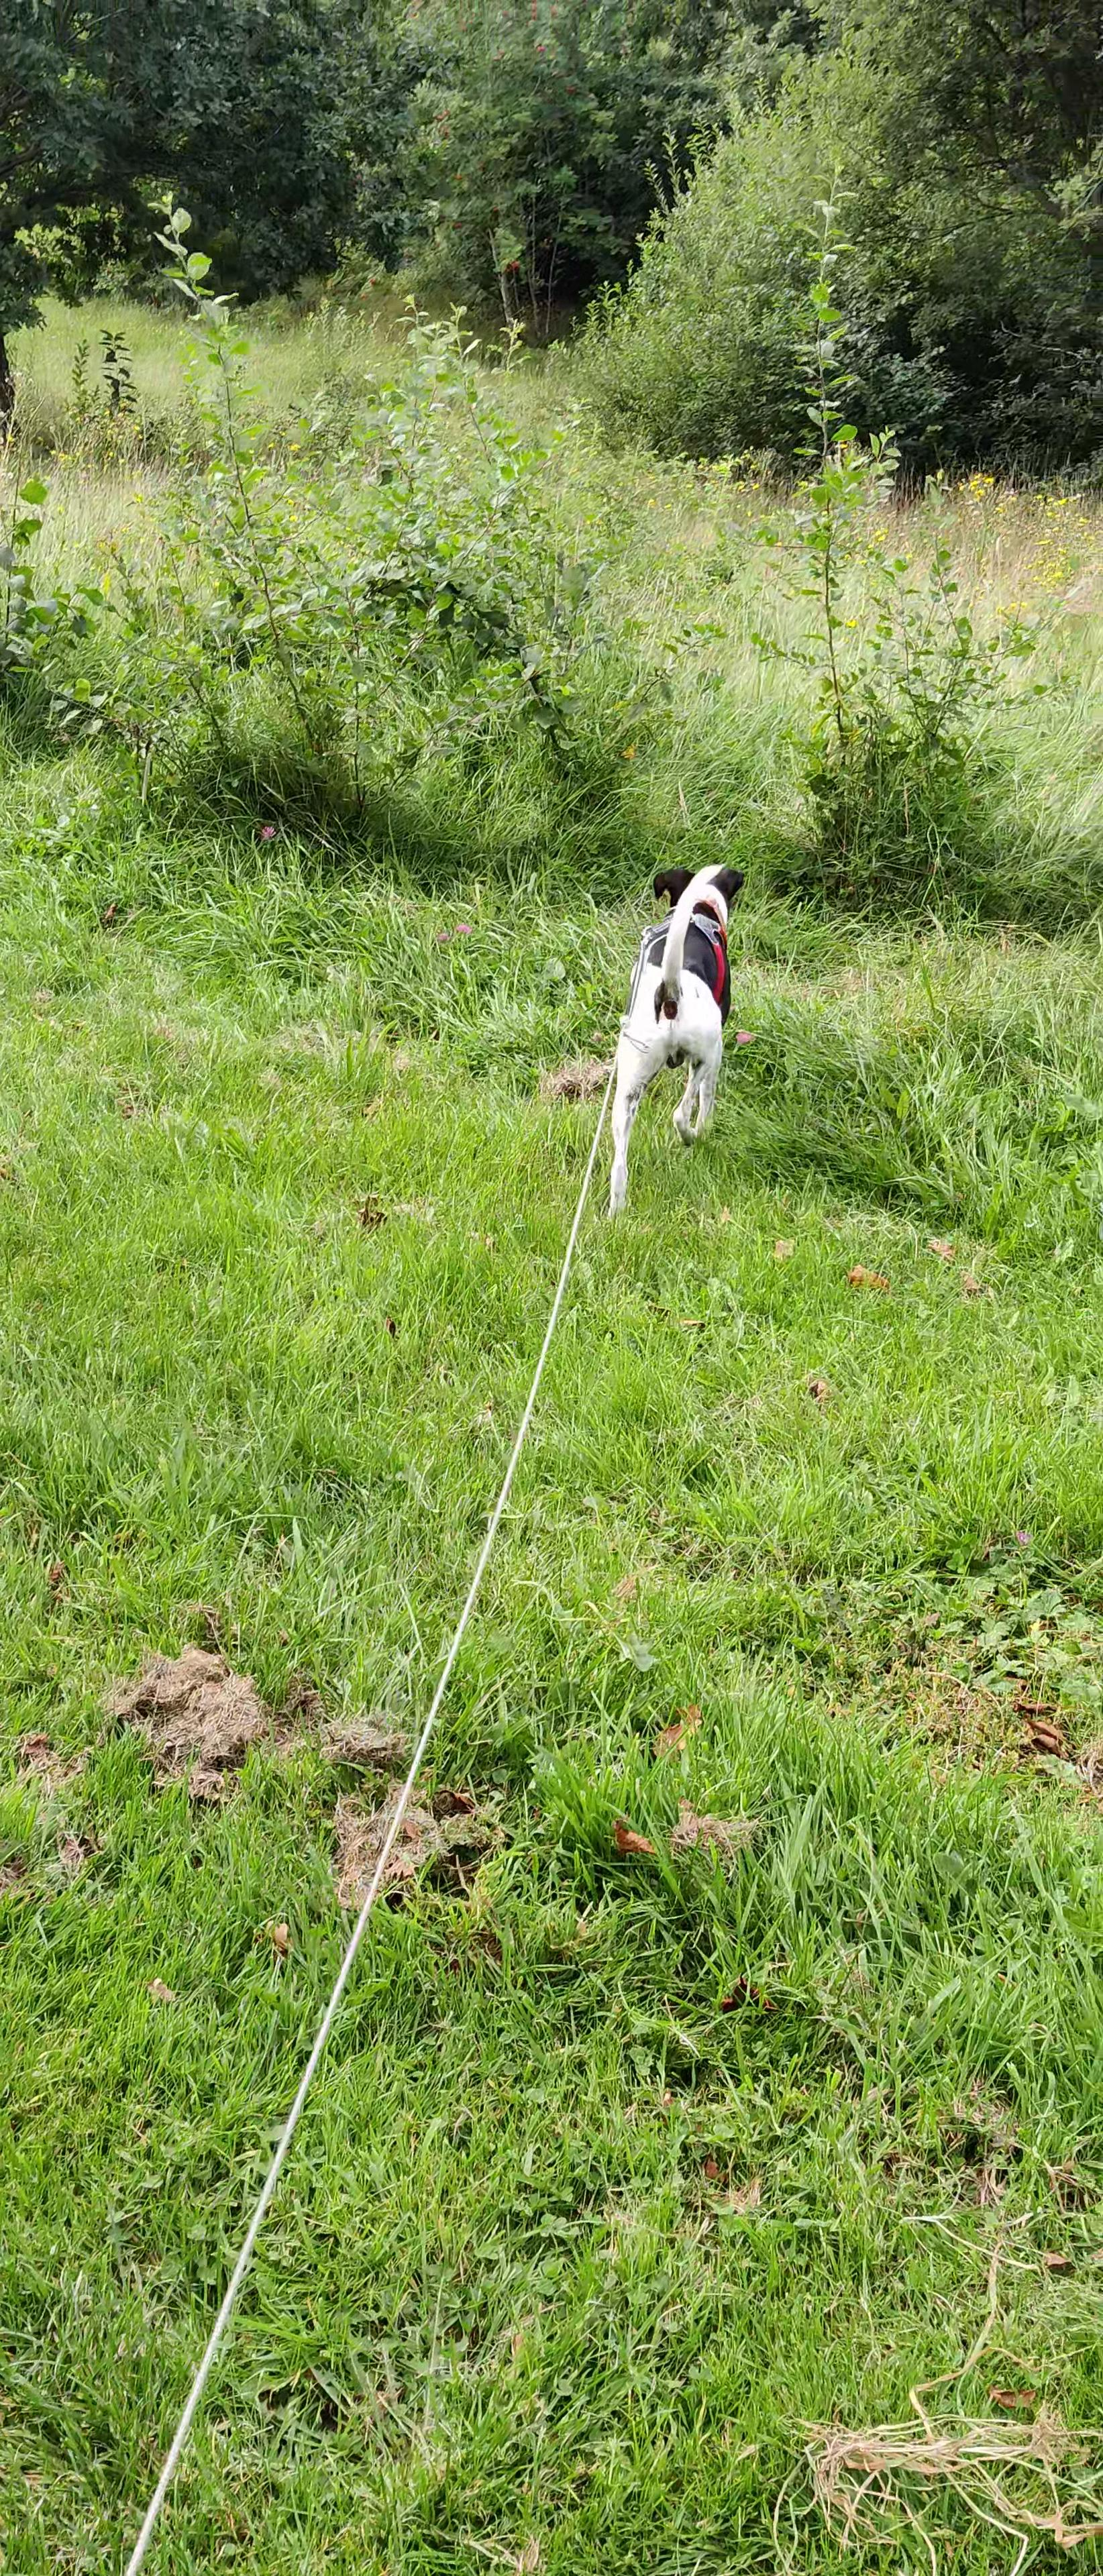Dog: (572, 836, 781, 1250)
